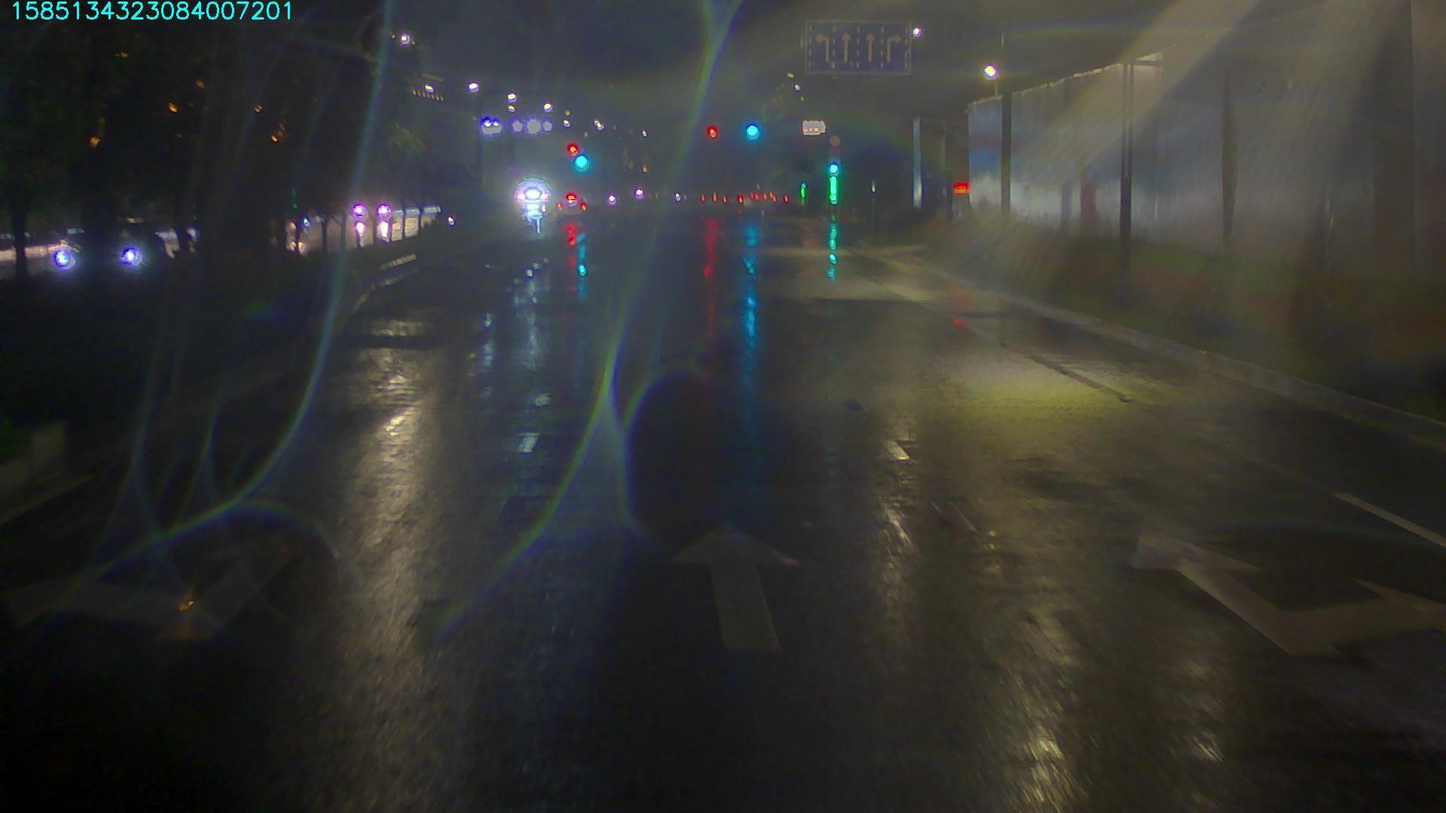green: (740, 120, 764, 139)
red: (707, 118, 724, 138)
